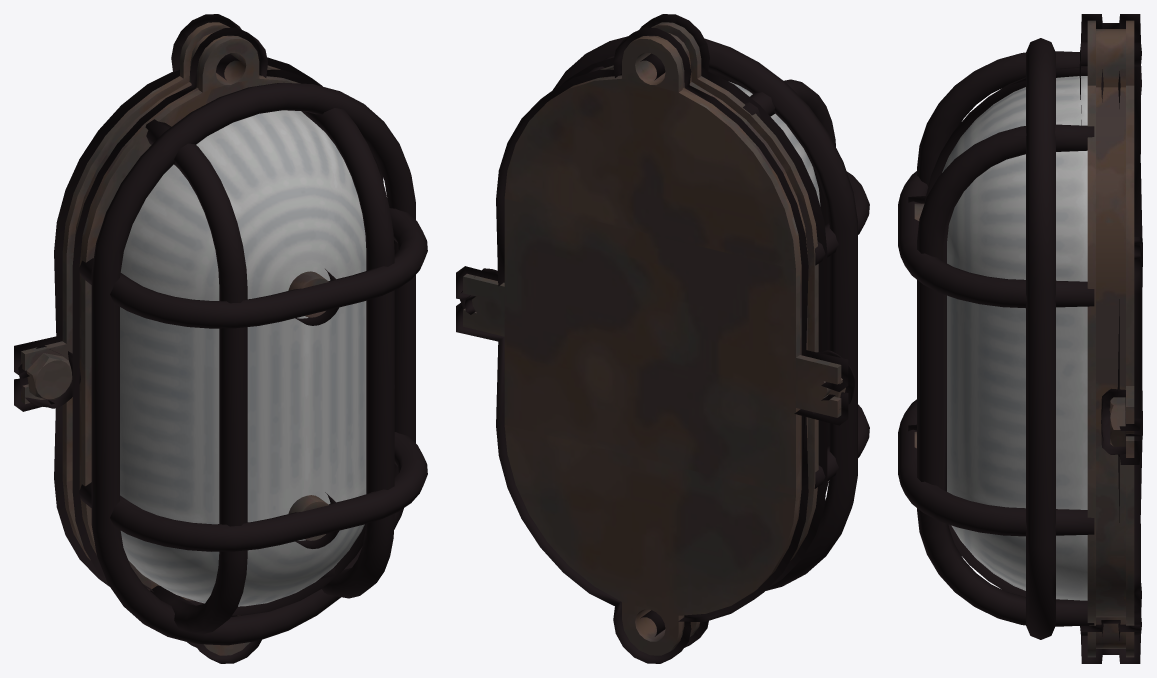
File: SM_Int_WallLamp.fbx
3 renders of one model, left to right at view 1: azimuth 30°, elevation 25°; view 2: azimuth 150°, elevation 25°; view 3: azimuth 270°, elevation 25°, orthographic. The views are drawn at different scales.
Visible parts, largest first — view 1: SM_Int_WallLamp; view 2: SM_Int_WallLamp; view 3: SM_Int_WallLamp.
Part boxes in pixels (x1,y1,x2,y2): SM_Int_WallLamp: [14, 14, 427, 663]; SM_Int_WallLamp: [456, 14, 869, 663]; SM_Int_WallLamp: [898, 14, 1142, 663].
Size of the model in its own units: 0.2828 by 0.4383 by 0.1514.
